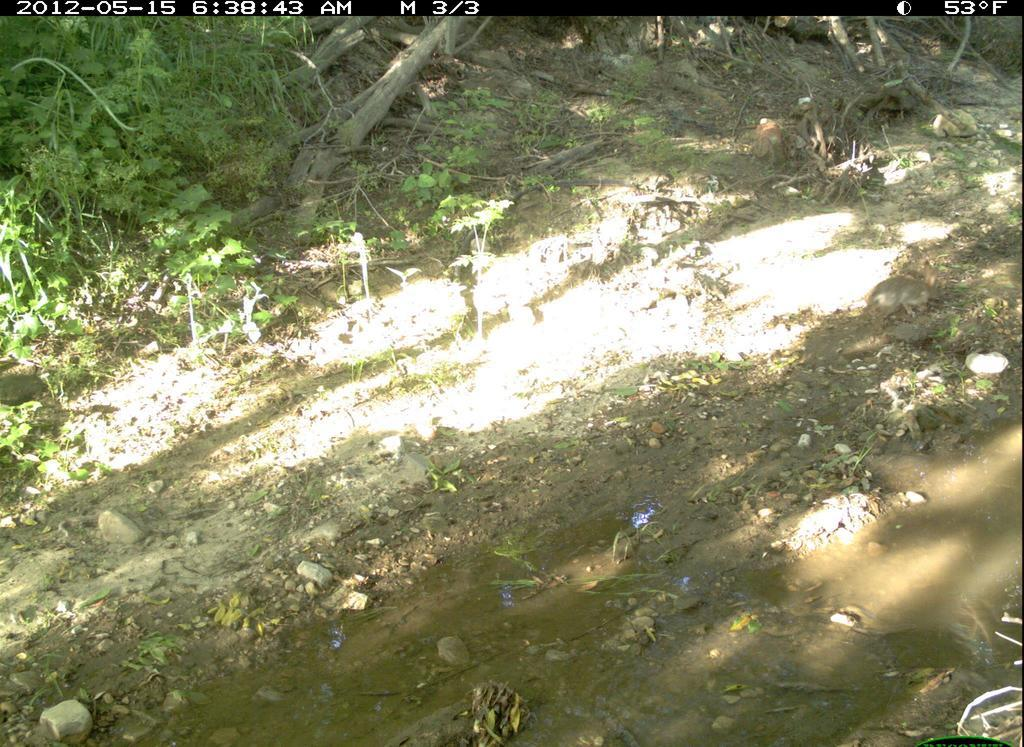rabbit: (857, 257, 949, 336)
